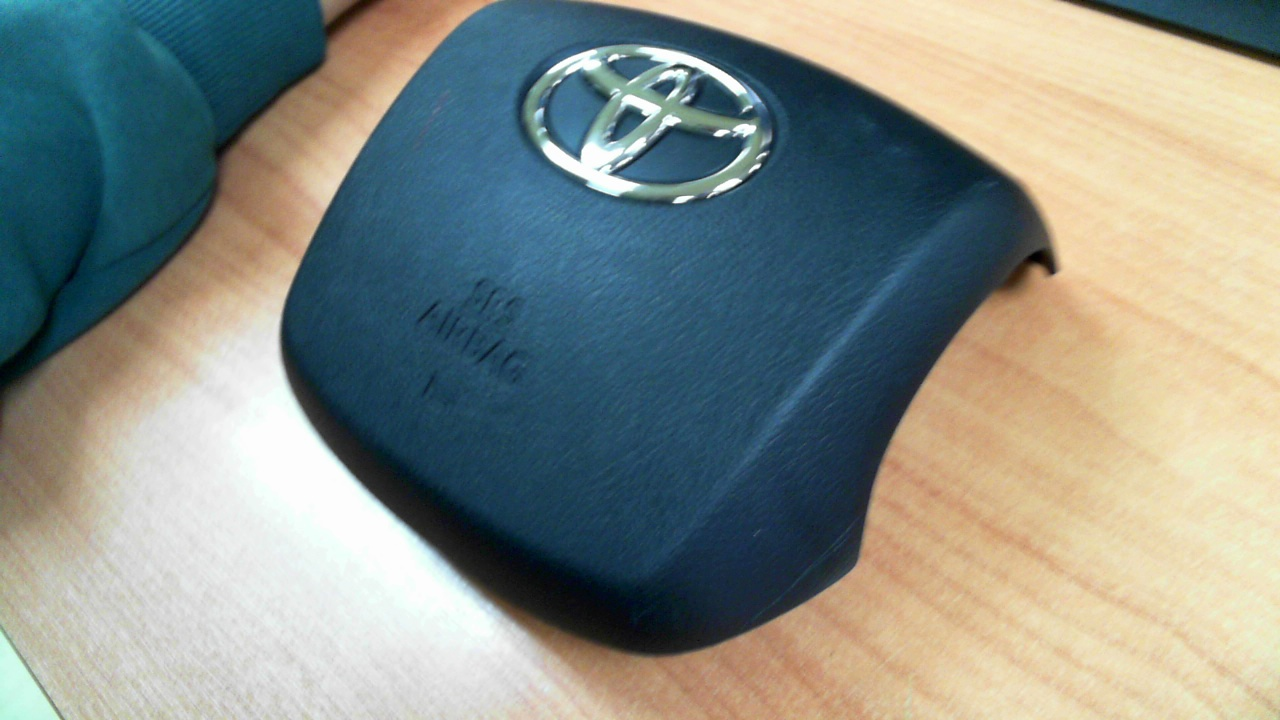Airbag: (281, 0, 1057, 658)
Toyota: (522, 44, 773, 204)
